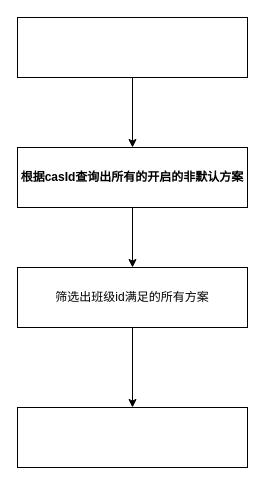
This 265x485 diagram has some shape labels left out. Each missing label, with the centre of its shape:
"casId和班级Id" goes at pixel 132 47.
"从方案中拿出所有的机器人wechatId和corpId" goes at pixel 132 437.
